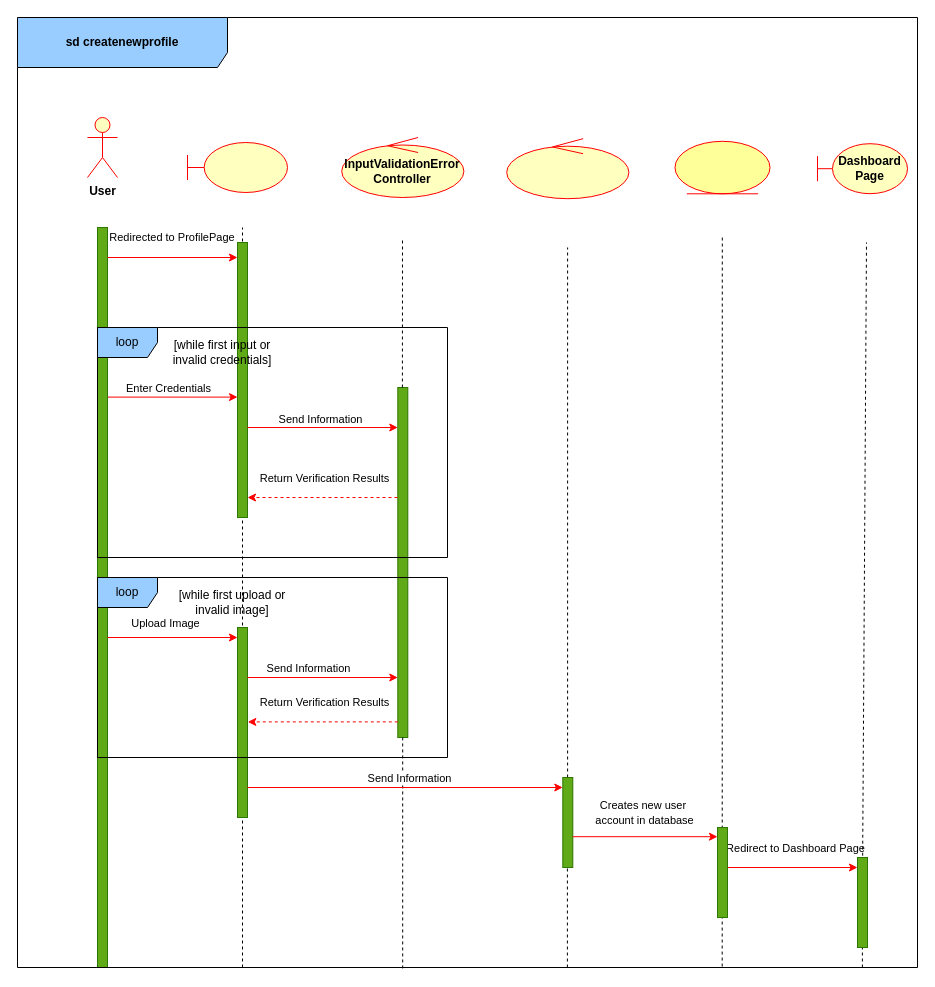
This 935x987 diagram has some shape labels left out. The centre of each missing label's shape, as x and y in pixels:
ProfilePage: the point at 237,167
Registration Controller: the point at 567,168
UserDatabase: the point at 722,167
